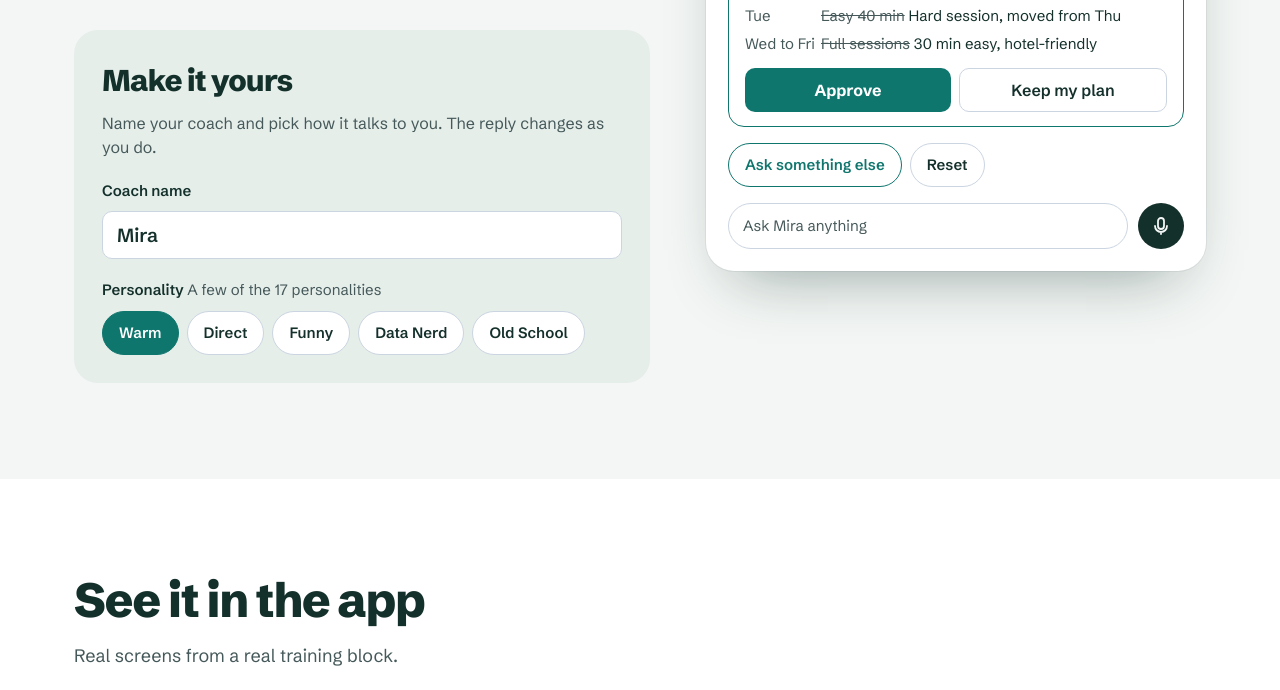
Scenario: ported from reference/interaction_tests.cjs › coach: a personality replaces the last and summarizes (PR 4b: pick one)
The image size is (1280, 690).
(page scrolled)
Click the button "Funny" at (311, 333), box [272,311,350,355]
(page scrolled)
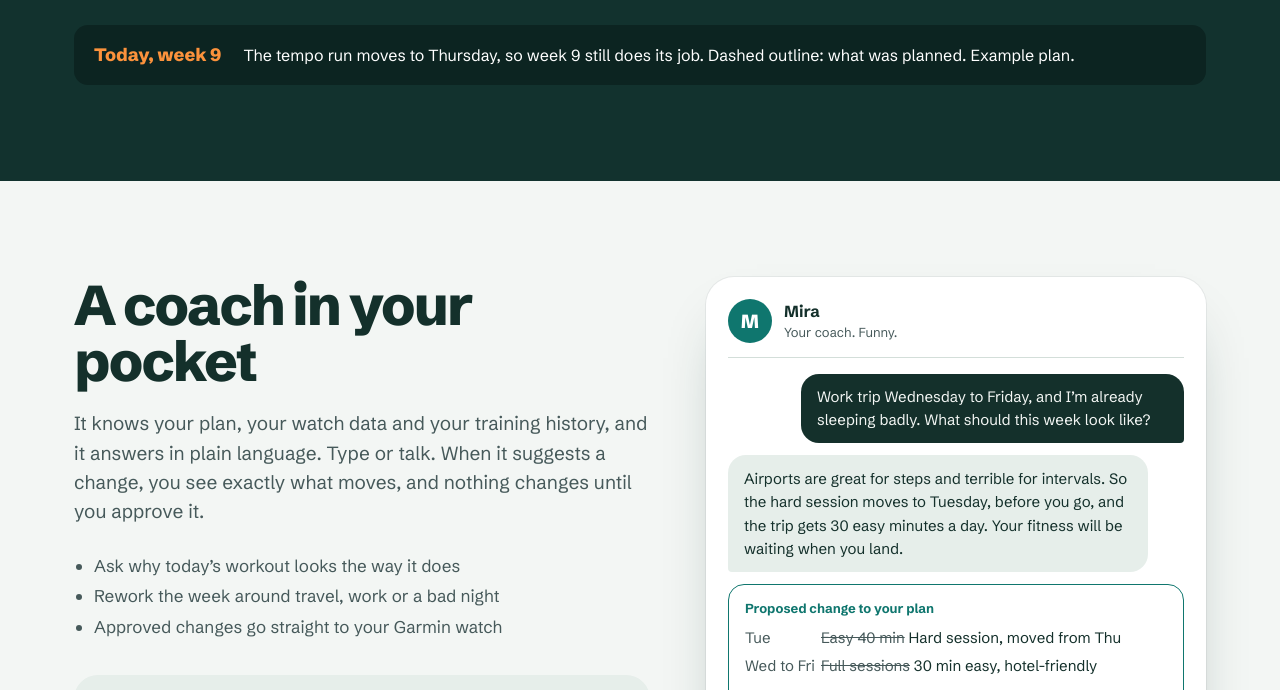
Now the text "Your coach. Funny." is shown, box [784,323,898,343]
